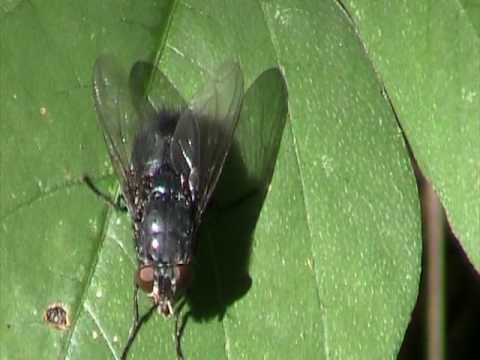green bottles flies: (65, 36, 270, 353)
